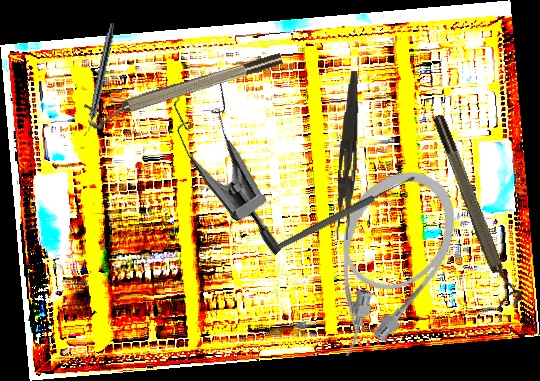Cannula: (287, 152, 477, 374)
Dressing Forceps: (336, 70, 360, 241)
Fixation Ring: (428, 109, 526, 313), (83, 49, 287, 132)
Handpiece: (82, 21, 117, 139)
Speculum: (138, 63, 338, 258)
Surgical Spoon: (276, 173, 417, 252)
